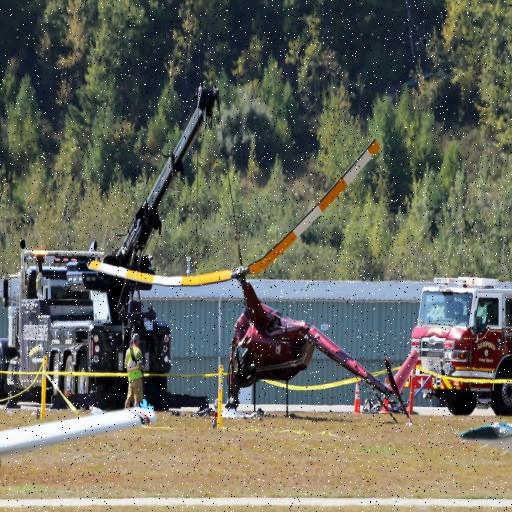helicopter: (206, 273, 435, 411)
